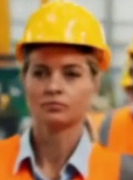Seline: (3, 2, 118, 171)
